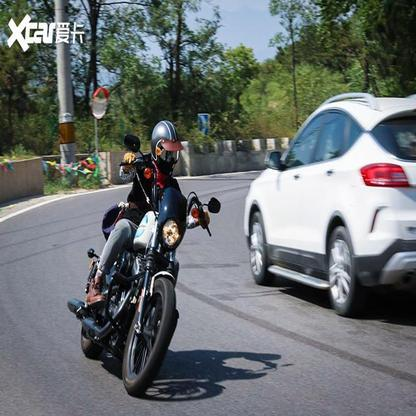target: (61, 119, 227, 399)
